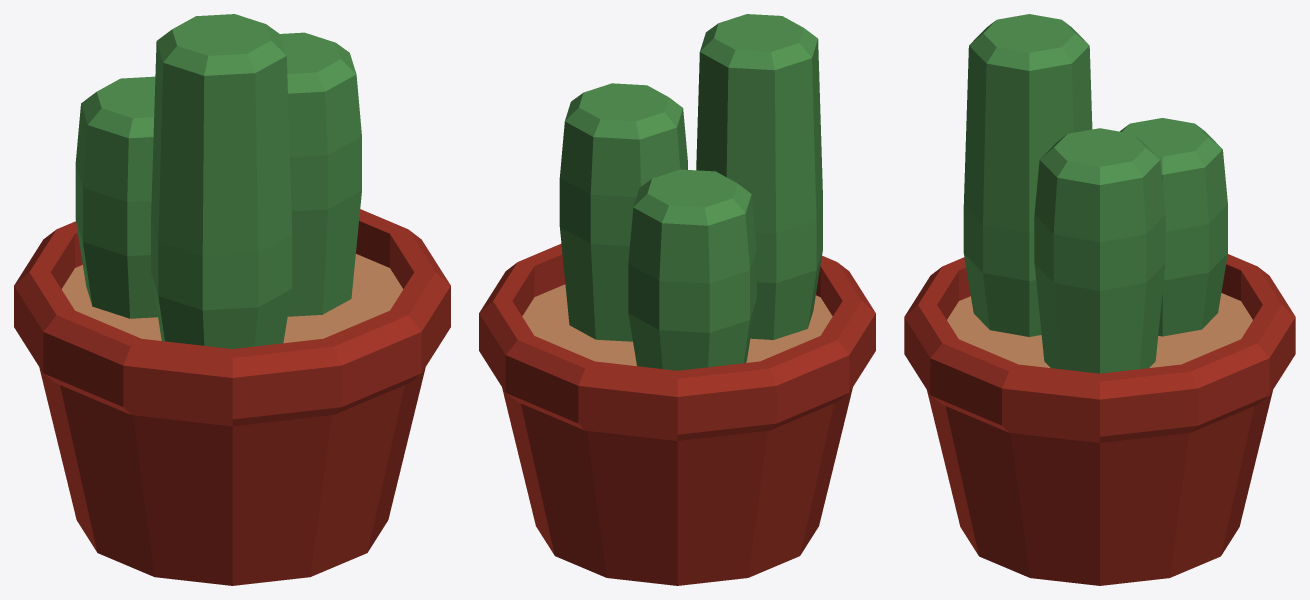
The model's file is plant_mini.gltf.
The picture shows the model from 3 angles, left to right: view 1: azimuth 30°, elevation 25°; view 2: azimuth 150°, elevation 25°; view 3: azimuth 270°, elevation 25°; orthographic projection. The views are drawn at different scales.
Visible parts, largest first — view 1: Plant B; view 2: Plant B; view 3: Plant B.
Boxes of the visible parts, left/top/right/bottom form: Plant B: left=14, top=14, right=450, bottom=585; Plant B: left=479, top=14, right=875, bottom=585; Plant B: left=904, top=14, right=1295, bottom=585.
Bounding box in the file's own units: 0.9116 × 1.21 × 0.9116.
